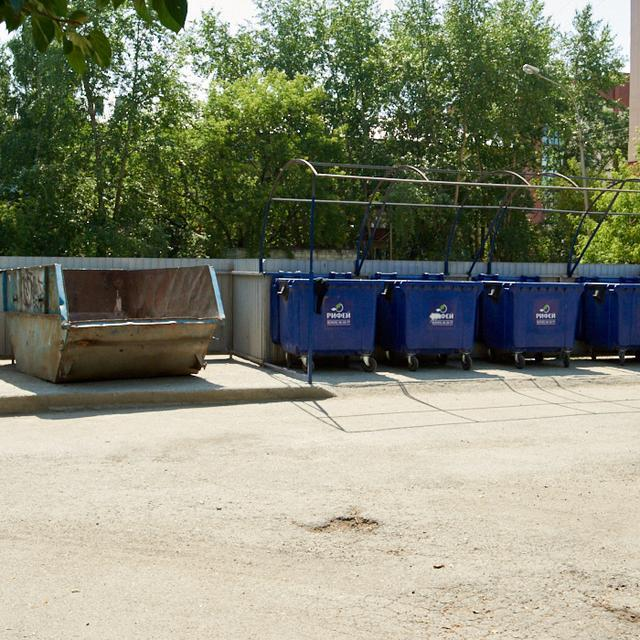Trash_Can_Empty: (275, 277, 383, 354), (378, 280, 484, 354), (480, 280, 585, 352), (583, 281, 640, 350)
